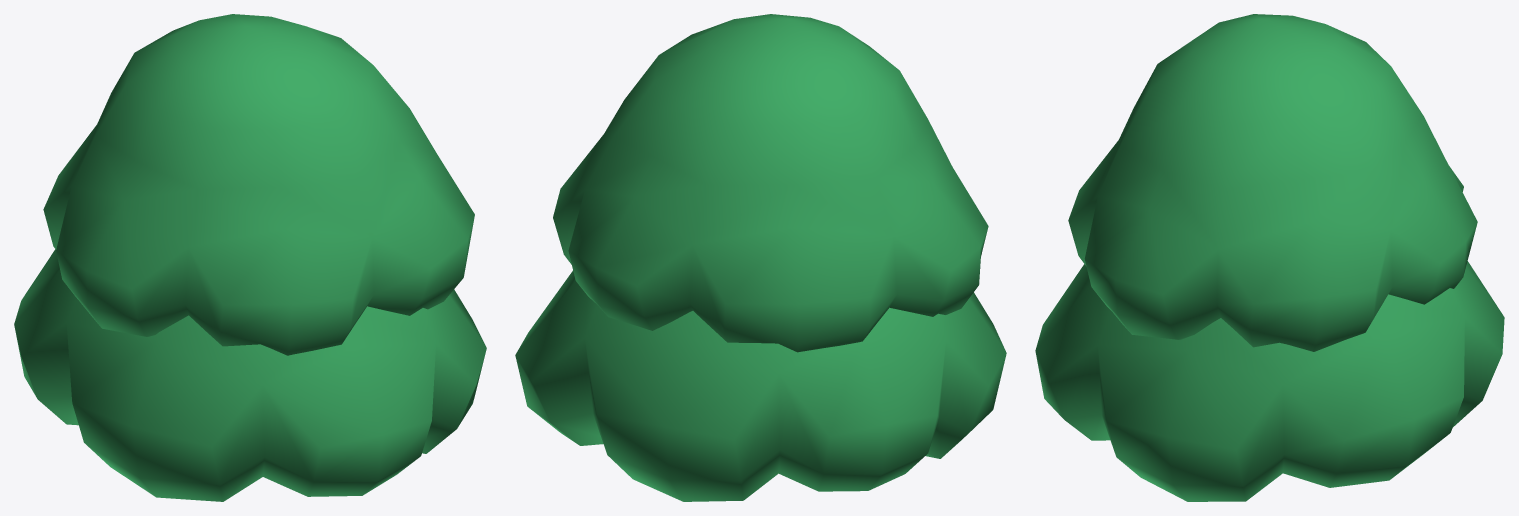
Rendered from Bush_C_02_LOD2.gltf.
The picture shows the model from 3 angles, left to right: view 1: azimuth 30°, elevation 25°; view 2: azimuth 150°, elevation 25°; view 3: azimuth 270°, elevation 25°; orthographic projection. The views are drawn at different scales.
Visible parts, largest first — view 1: Bush_C_02_LOD2_Cylinder.614; view 2: Bush_C_02_LOD2_Cylinder.614; view 3: Bush_C_02_LOD2_Cylinder.614.
Boxes of the visible parts, bbox=[...] form: Bush_C_02_LOD2_Cylinder.614: bbox=[14, 14, 486, 501]; Bush_C_02_LOD2_Cylinder.614: bbox=[515, 14, 1006, 501]; Bush_C_02_LOD2_Cylinder.614: bbox=[1035, 14, 1504, 501].
Bounding box in the file's own units: 4.36 × 4.37 × 4.54.
1 material, 1 textured.
